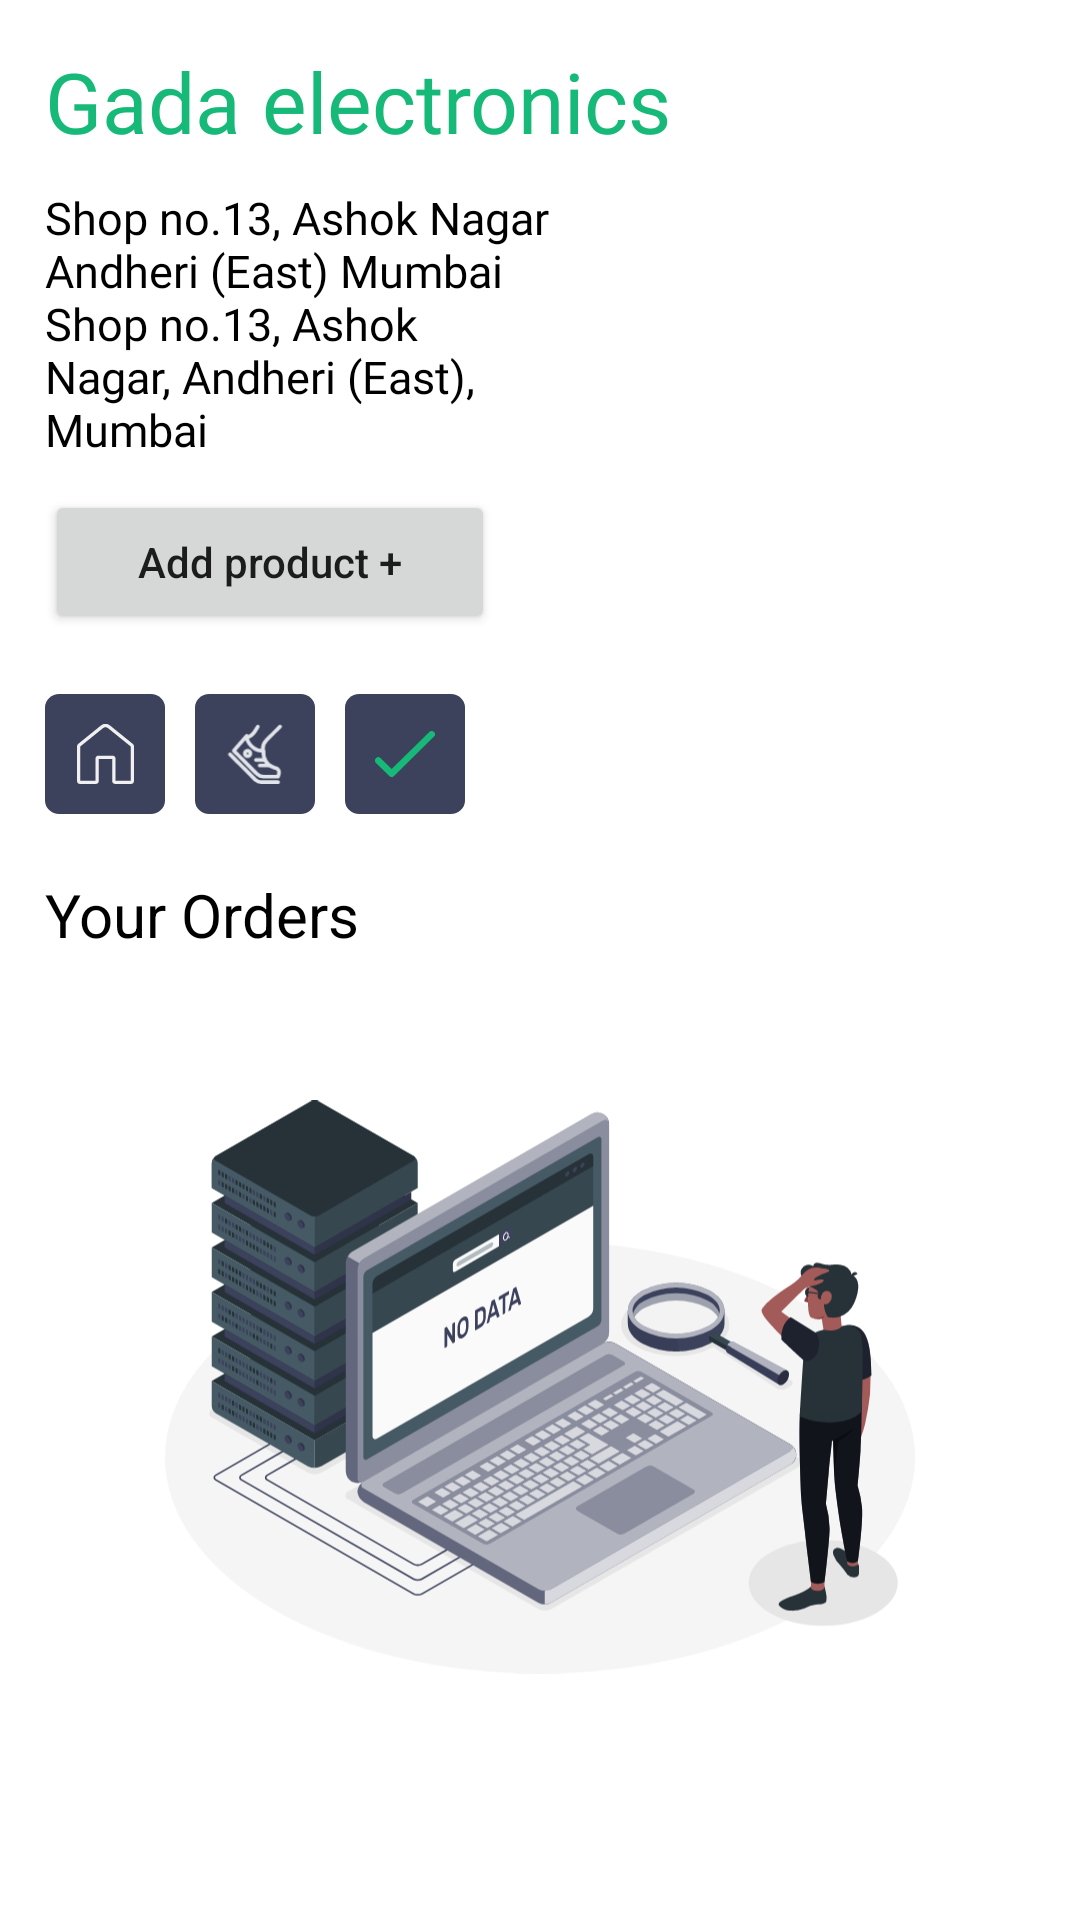

Screen size 1080 × 1920. Icon name, then its center in pixels as point (x, y):
corect: point (405, 754)
go and try: point (255, 754)
iwhite home: point (105, 754)
